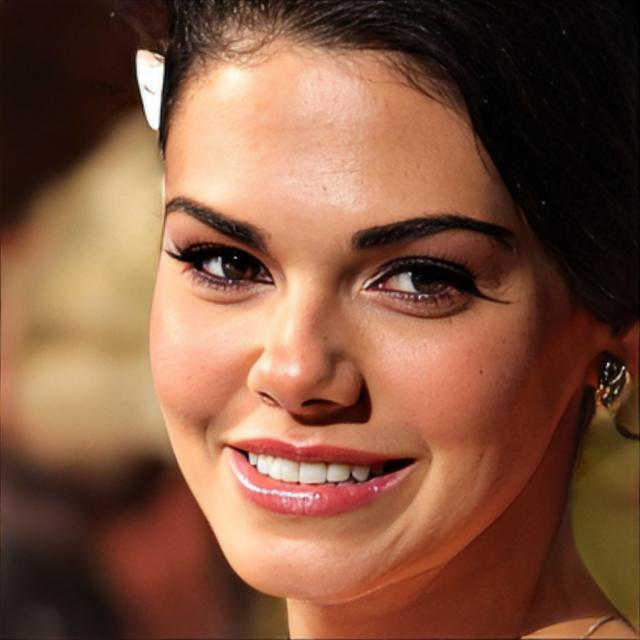happy: (146, 34, 564, 606)
